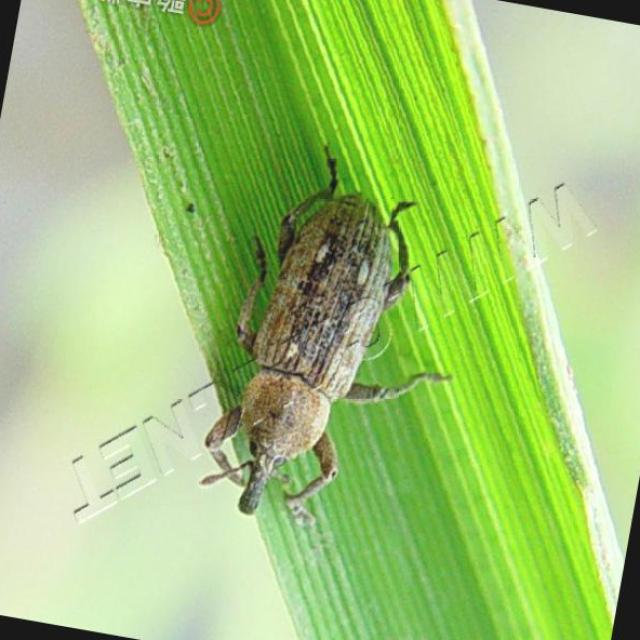ricebug: (202, 157, 449, 515)
